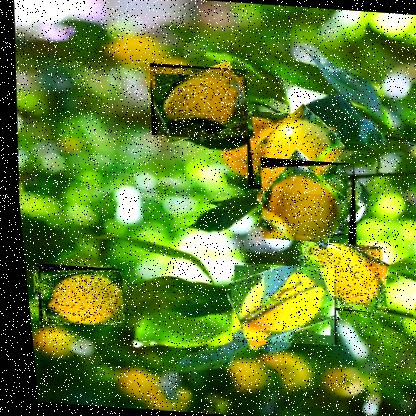lemon: (219, 262, 335, 348), (251, 157, 357, 245), (238, 110, 343, 195), (143, 62, 251, 142), (286, 235, 386, 314), (24, 262, 121, 327)
